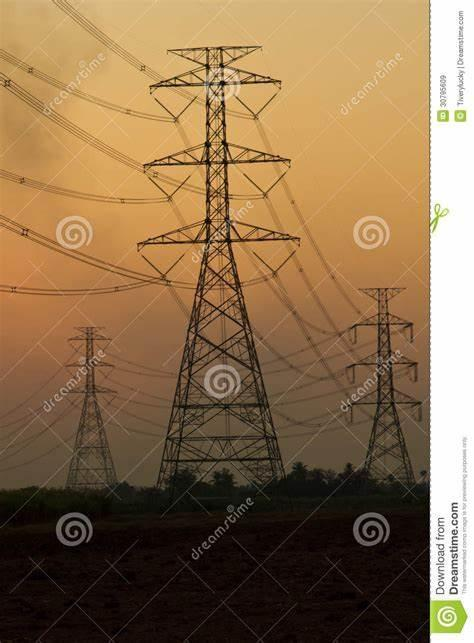power_tower: (144, 49, 308, 499), (349, 275, 426, 493), (60, 322, 133, 496)
